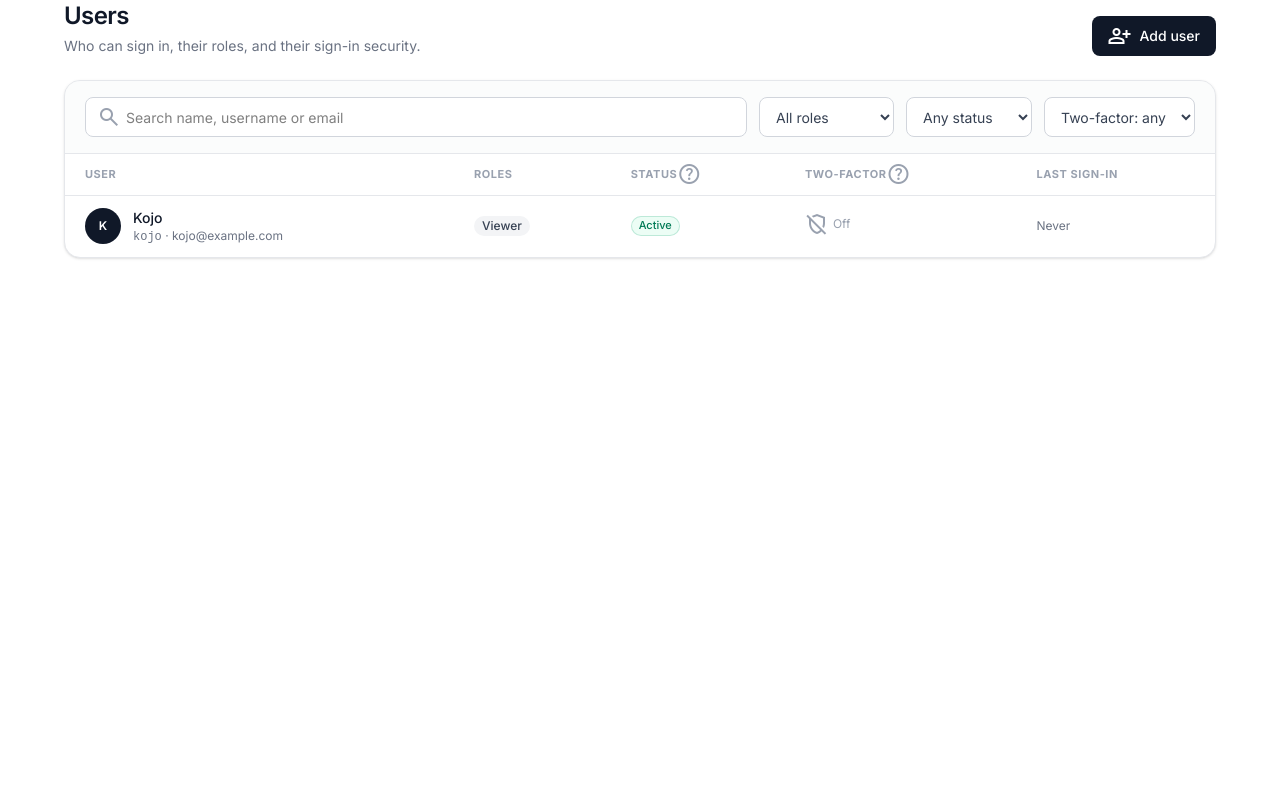
Test: users › adds a user and shows the temporary password once
This screenshot has width=1280, height=800.
Expected: the text "Kojo" is shown, [133,208,162,226]
Click the button "Add user" at (1154, 36), box [1092,16,1216,56]
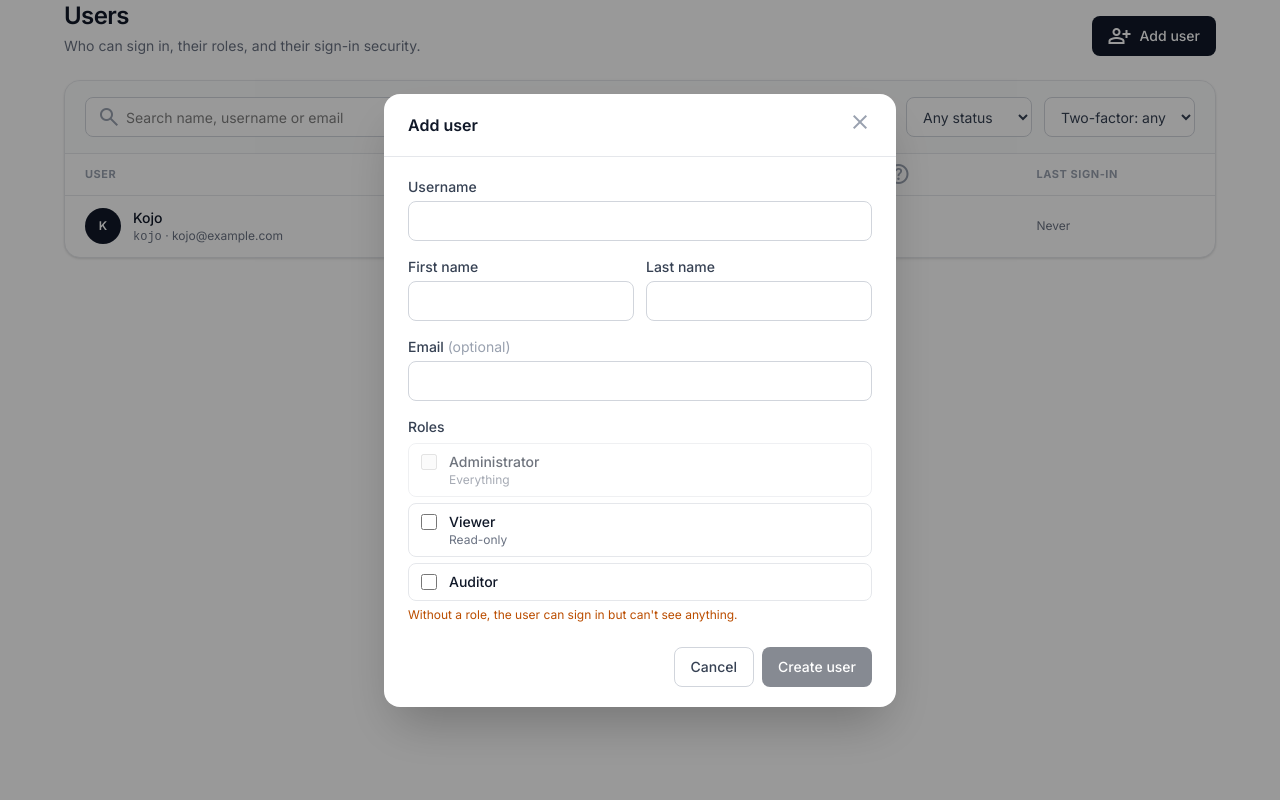
Type "ama" into the field labelled "Username" at (640, 220), box [408,200,872,240]
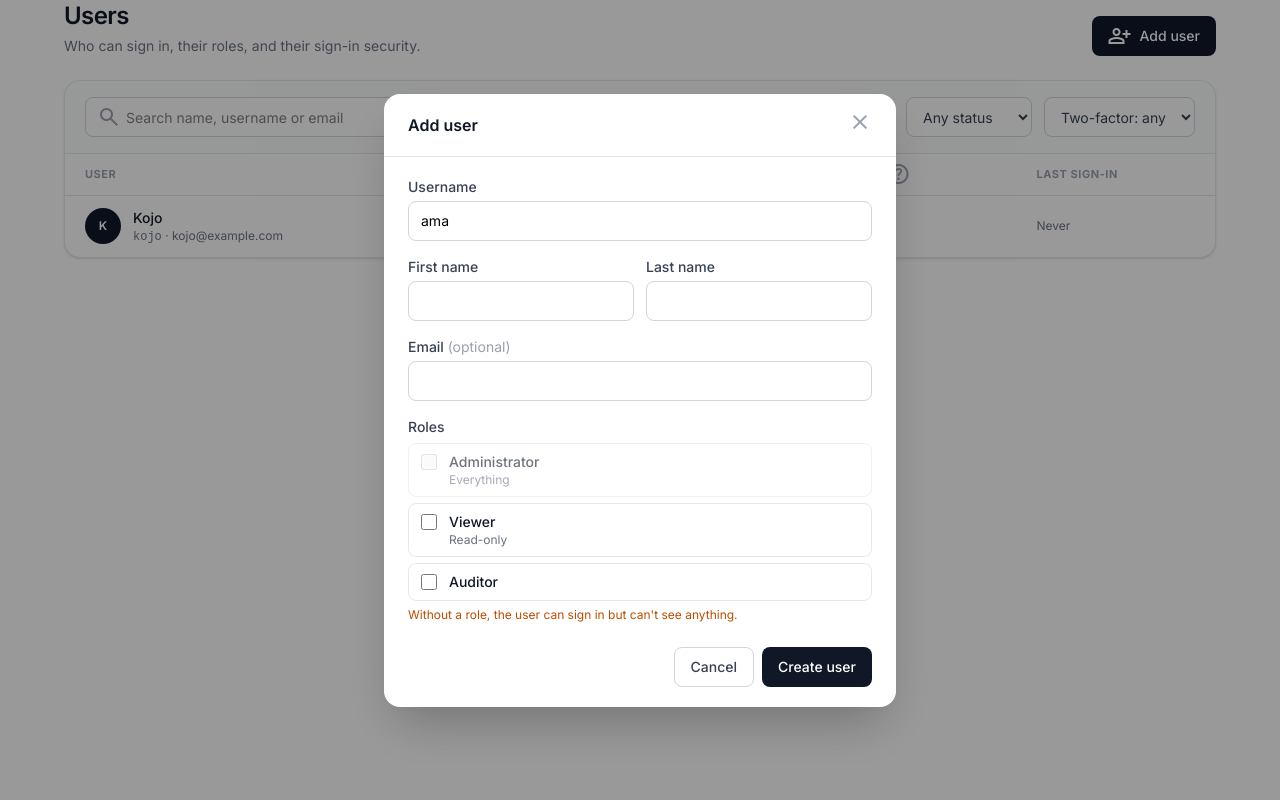
Expected: the checkbox labelled "Administrator Everything" is disabled, [421,454,437,470]
Click the checkbox labelled "Viewer Read-only" at (429, 522), box [421,514,437,530]
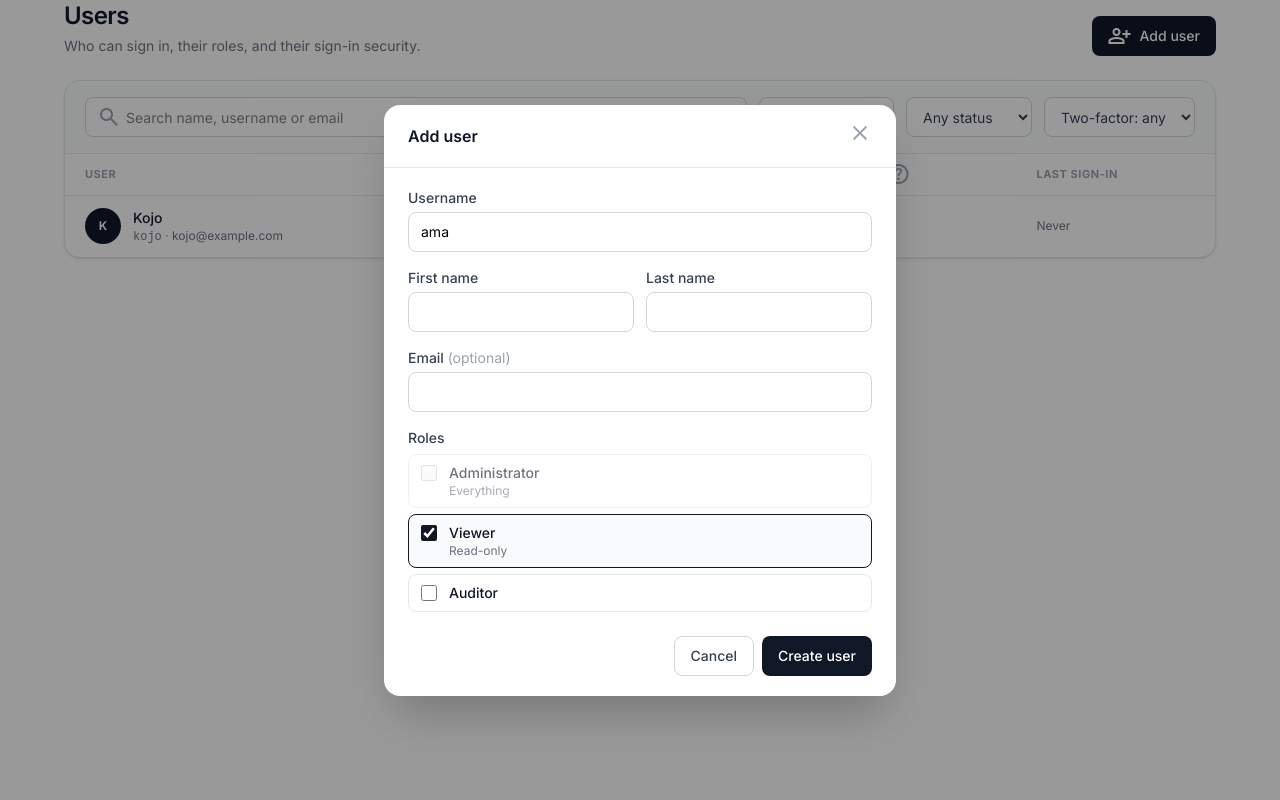
Click the button "Create user" at (817, 656), box [762,636,872,676]
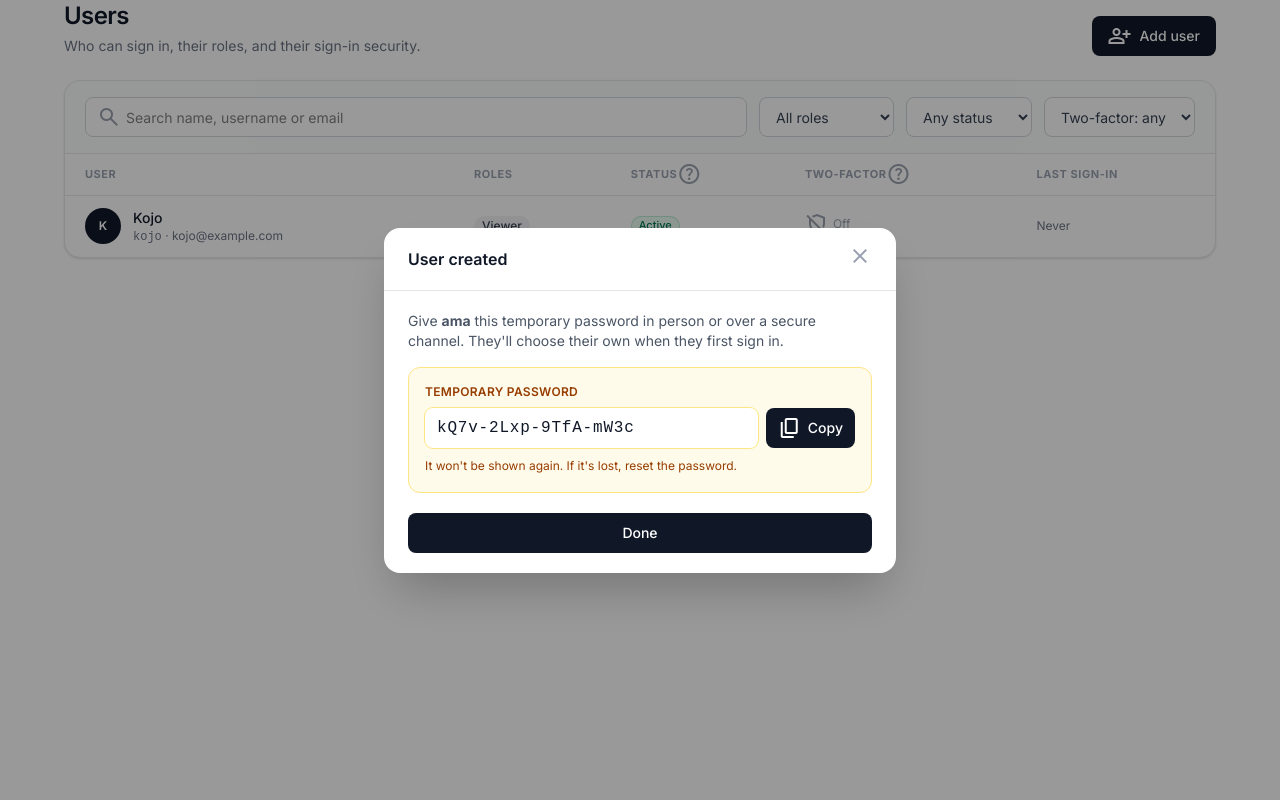
Expected: the text with test id "one-time-secret" reads "kQ7v-2Lxp-9TfA-mW3c", [437,418,635,436]
